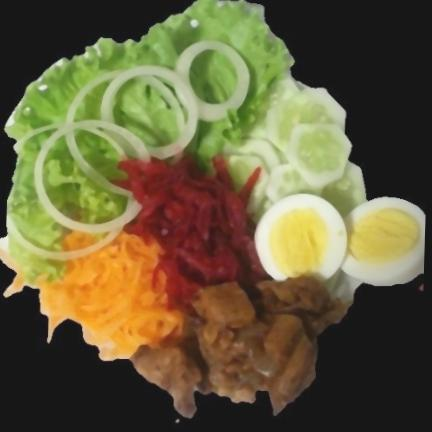beet: (130, 154, 276, 303)
carrot: (0, 226, 184, 358)
cucumber: (222, 76, 370, 215)
egg: (258, 193, 426, 286)
meat: (130, 277, 351, 415)
salad: (3, 0, 290, 288)
